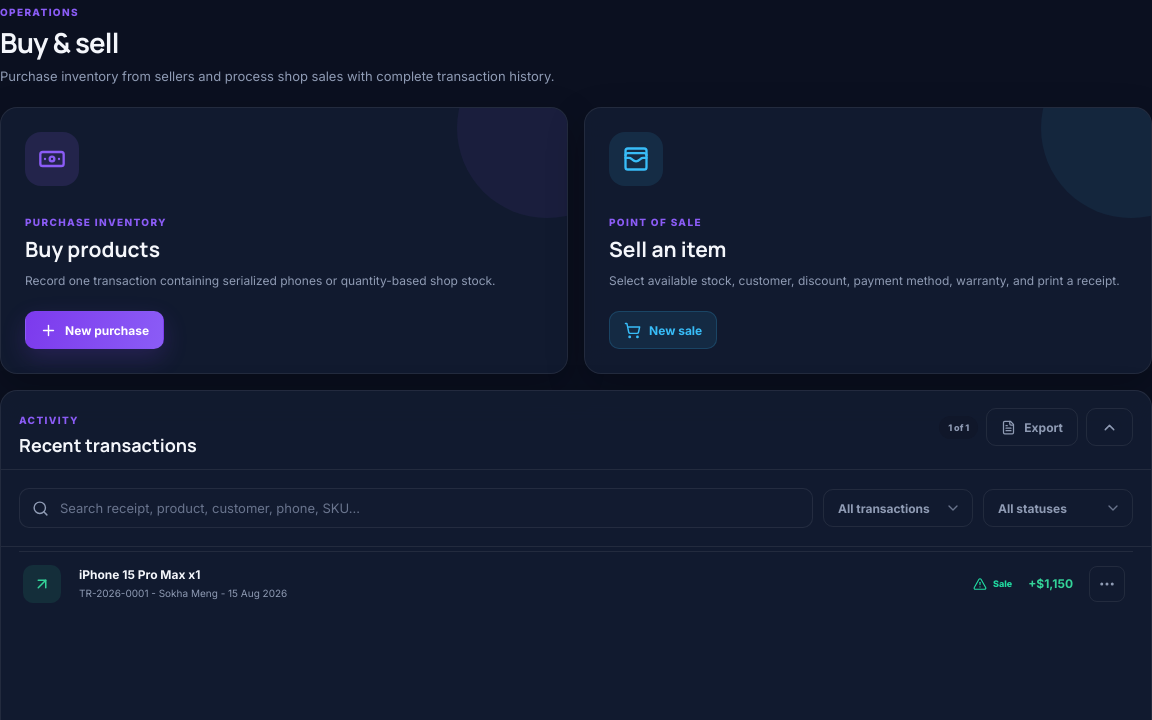
Scenario: TradePage feature integration › lets an owner correct only warranty and notes with a required reason
Click the button with aria-label "View TR-2026-0001": [42, 584] box [19,552,1133,616]
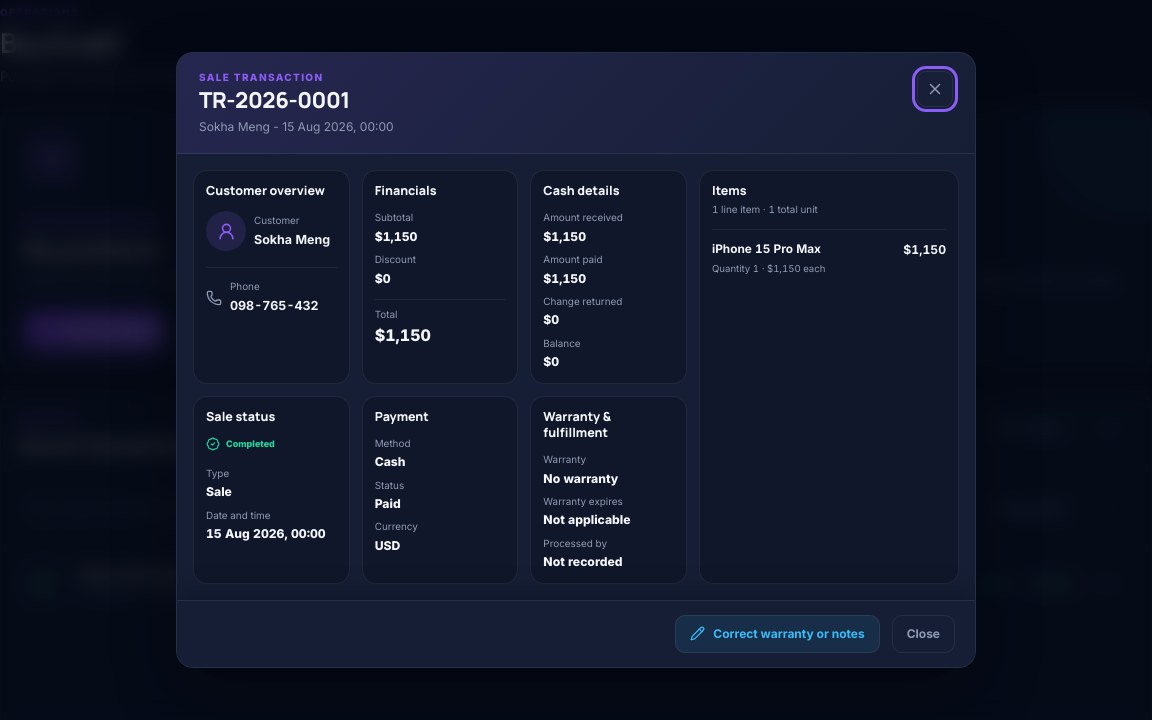
Click the button "Correct warranty or notes": [777, 634] box [675,614,880,652]
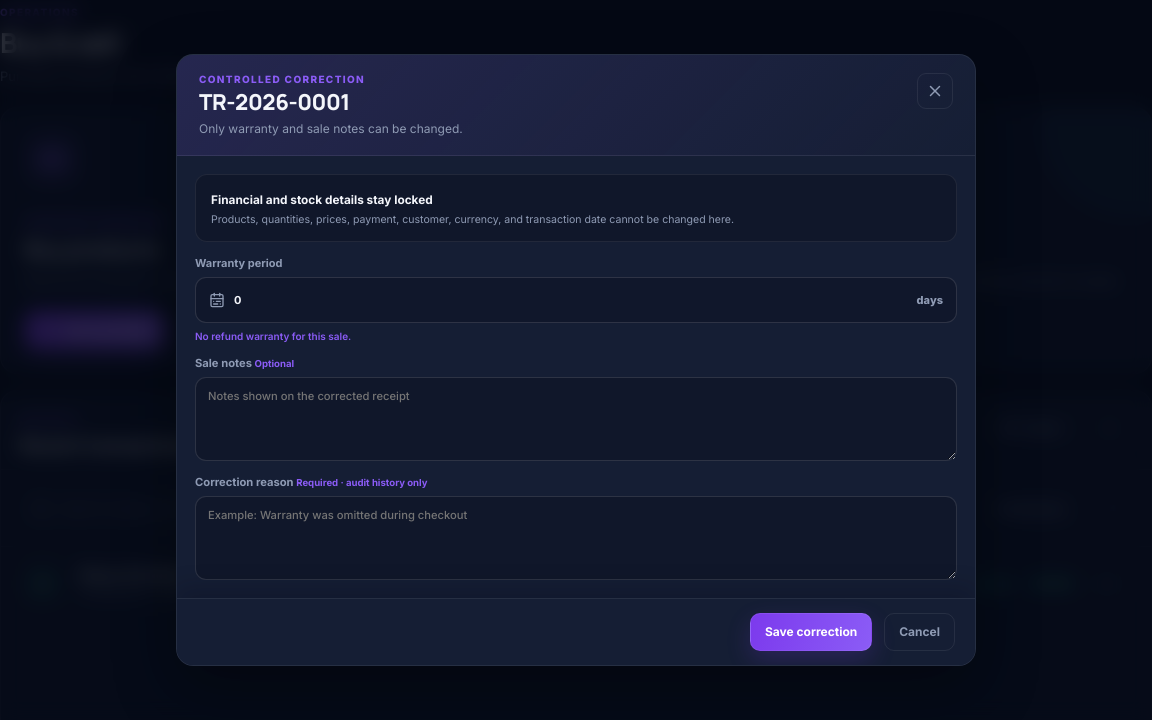
Replace the text in the number field named "Warranty period in days" with "30": [571, 300] box [234,278,908,322]
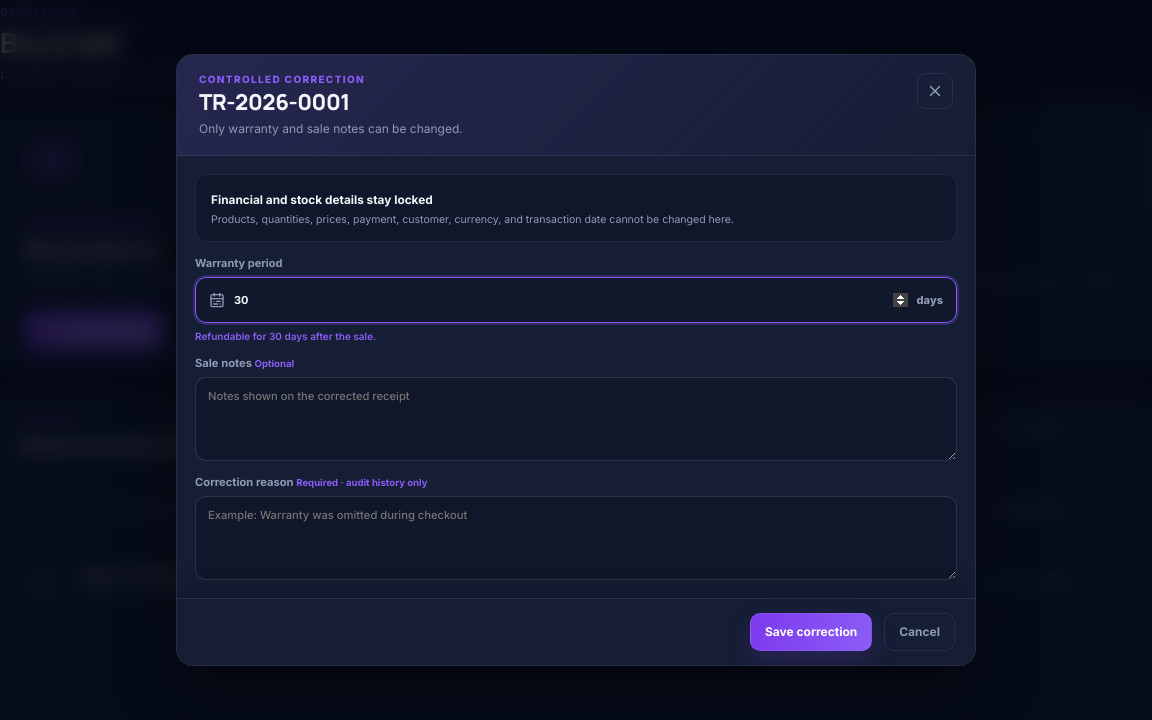
In the text box with placeholder "Notes shown on the corrected receipt": [576, 419] box [195,377,957,461], type "Customer has a 30-day warranty."
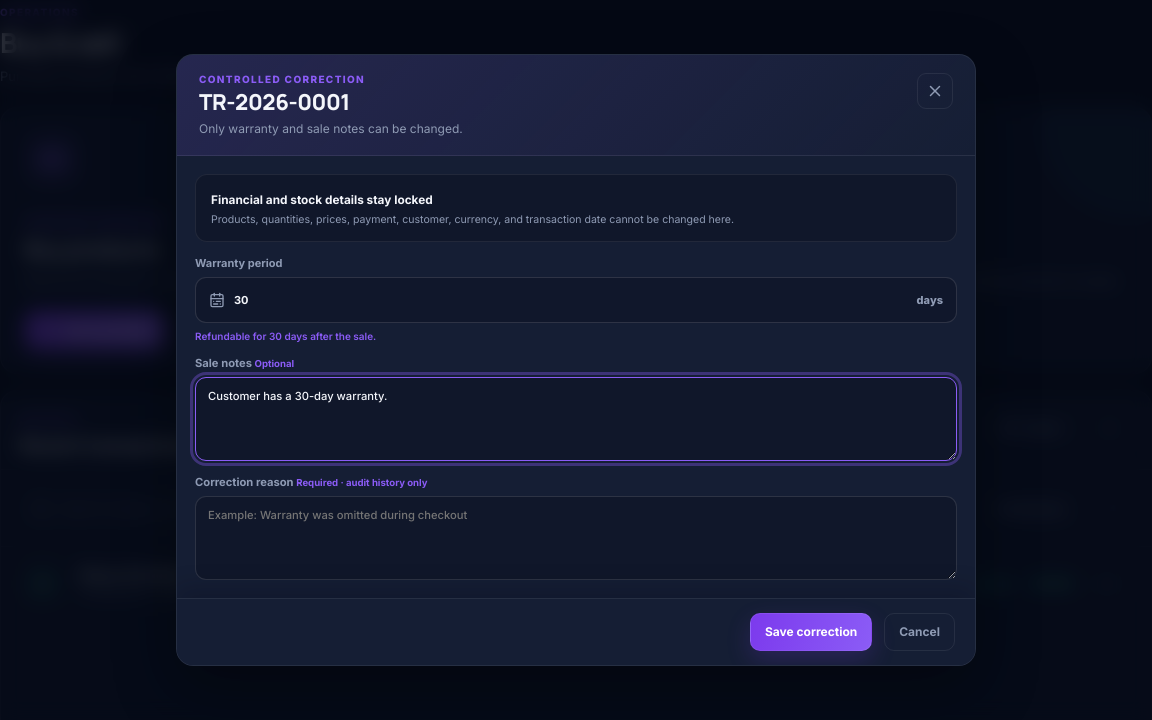
In the text box with placeholder "Example: Warranty was omitted during checkout": [576, 538] box [195,496,957,580], type "Warranty omitted at checkout"
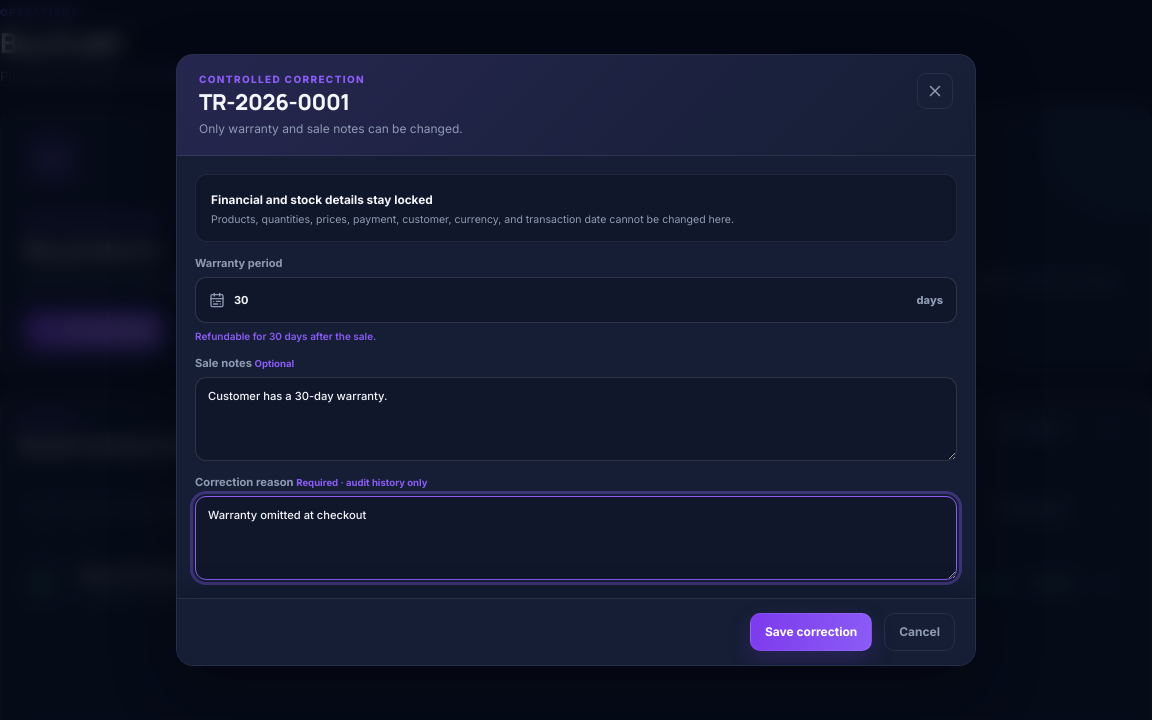
Expected: the text "total" is not shown
Click the button "Save correction": [811, 632] box [750,613,872,651]
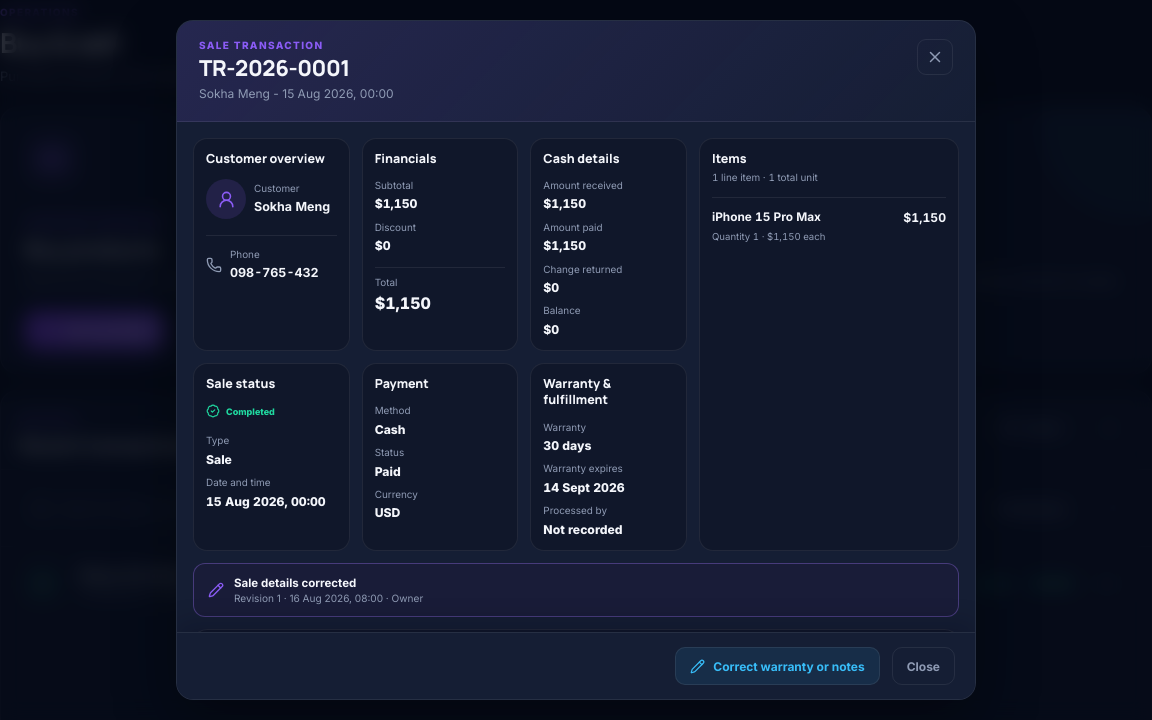
Result: the text "30 days" is shown at [543,438,591,453]
Result: the text "Sale details corrected" is shown at [234,576,356,590]
